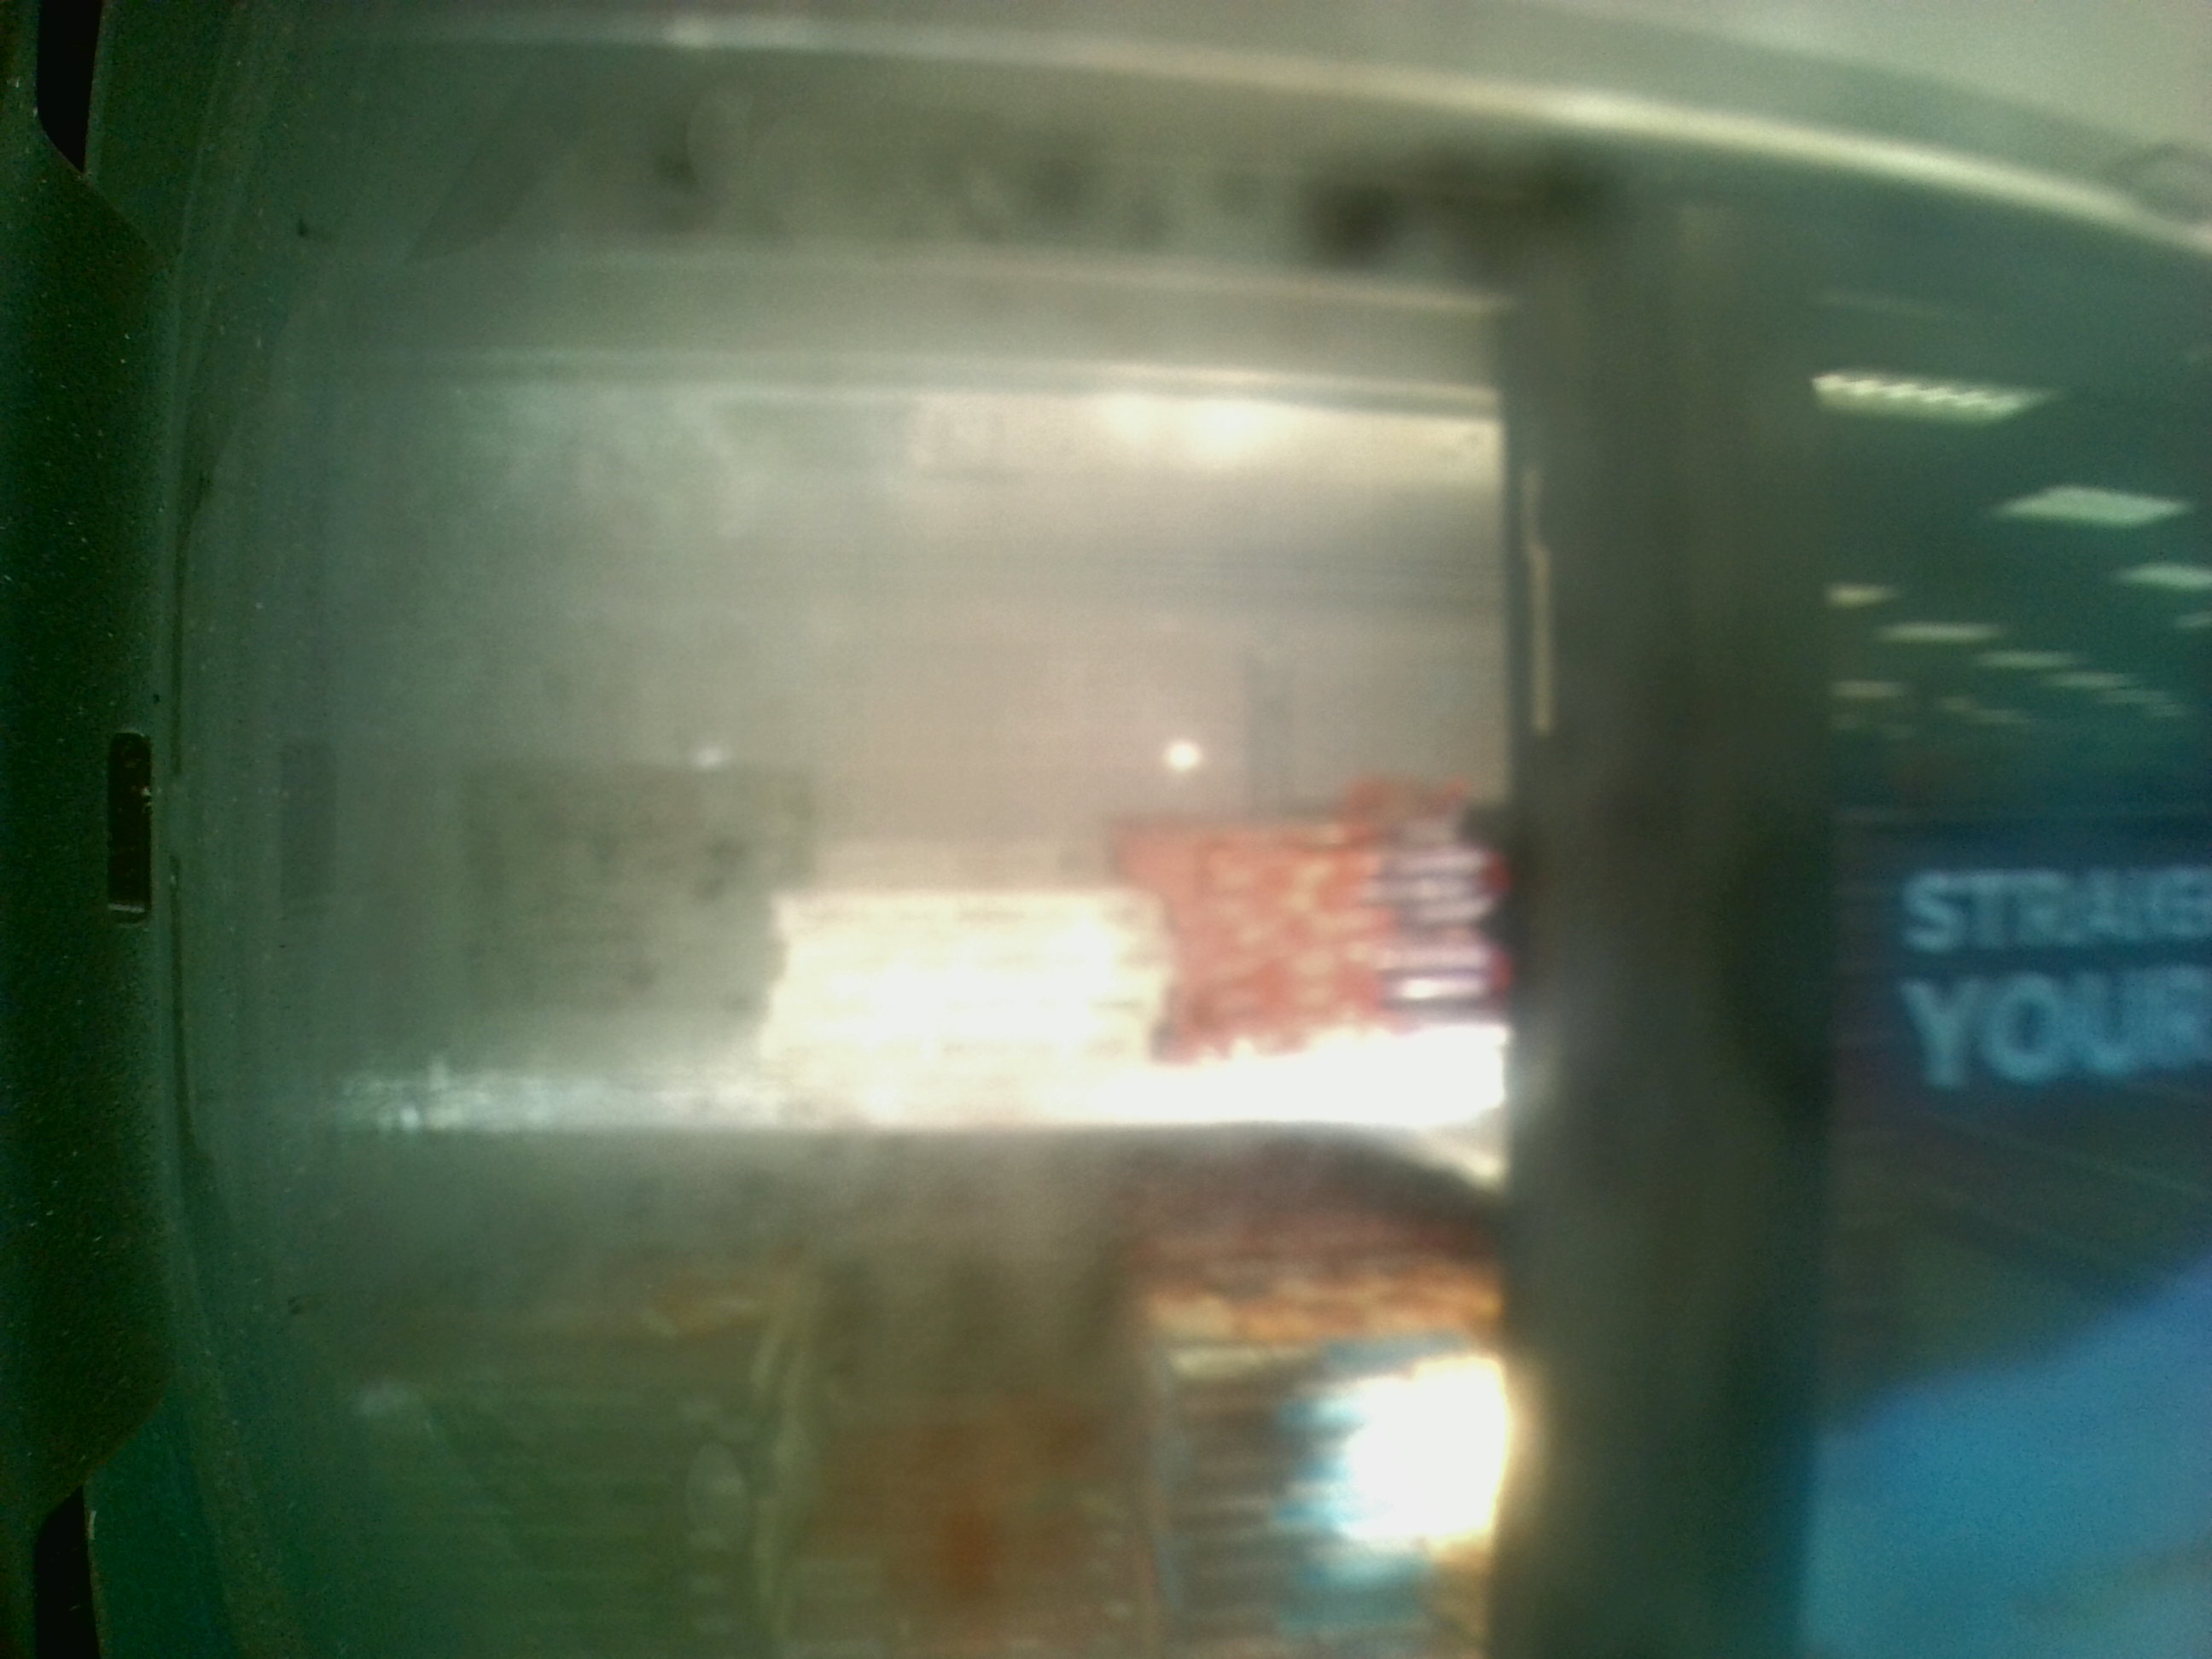pizza: (385, 1194, 777, 1398), (1160, 1194, 1480, 1333), (408, 1453, 761, 1513), (401, 1523, 737, 1567), (420, 1582, 737, 1607)
